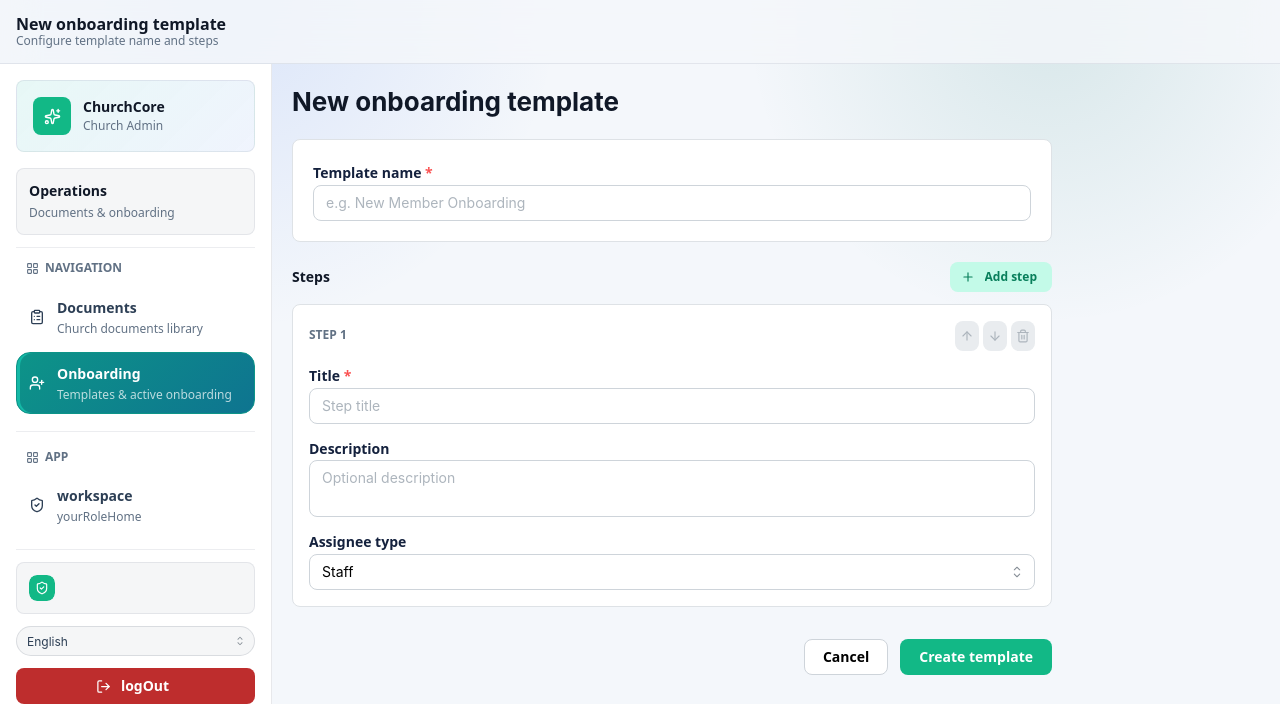
OperationsOnboardingTemplateFormClient — create mode › removes a step when Remove is clicked (AC15)
# Add a second step first
Step 1. Click the button "Add step" → [1001, 277], box [950,262,1052,292]
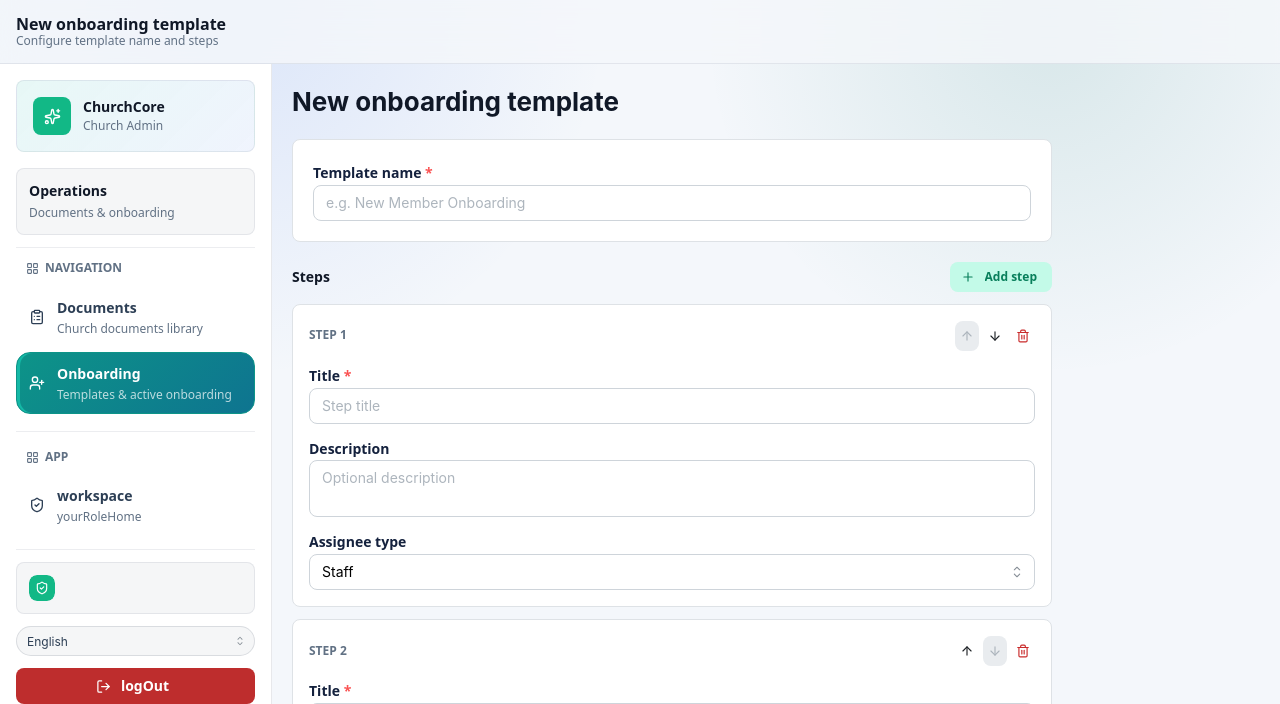
Now the text "Step 2" is shown, box [309,643,347,660]
# Remove buttons are now enabled
Step 2. Click the button named "remove step" → [1023, 651], box [1011,636,1035,666]
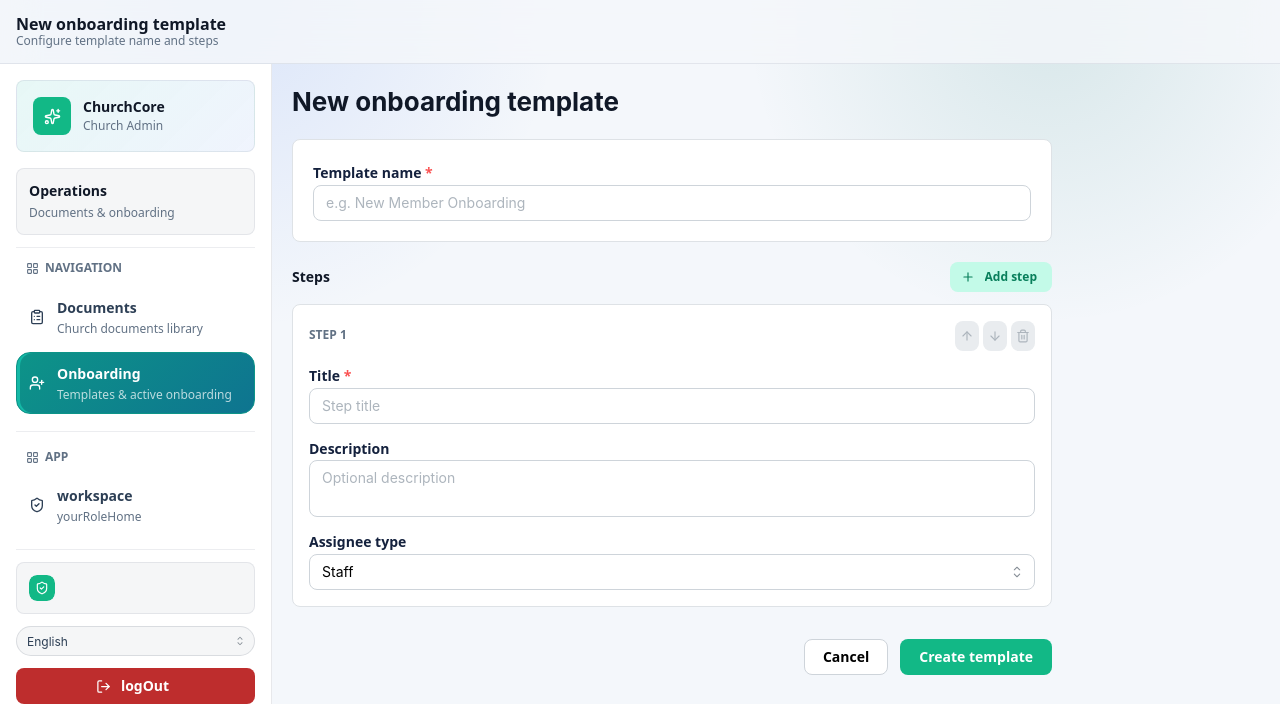
Now the text "Step 2" is gone
